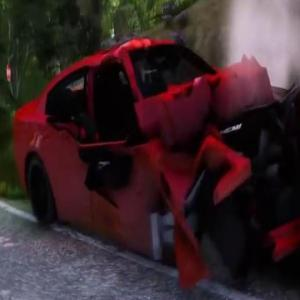fatal: (8, 32, 300, 300)
